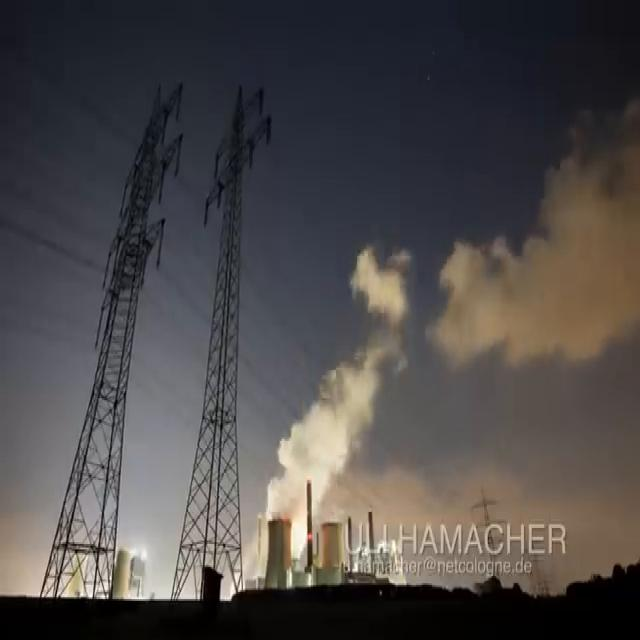smoke: (263, 251, 640, 560)
